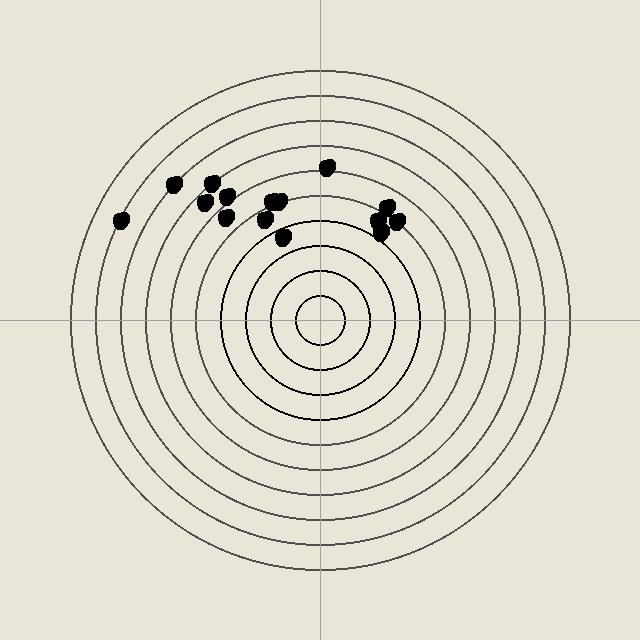horizontal_scatter: (367, 210, 387, 230), (386, 211, 406, 231), (272, 227, 292, 247), (268, 191, 288, 211), (376, 197, 396, 217), (254, 209, 274, 229), (370, 222, 390, 242), (194, 192, 214, 212), (163, 174, 183, 194), (215, 207, 235, 227), (261, 191, 281, 211), (216, 186, 236, 206), (110, 210, 130, 230), (201, 173, 221, 193), (316, 157, 336, 177)
